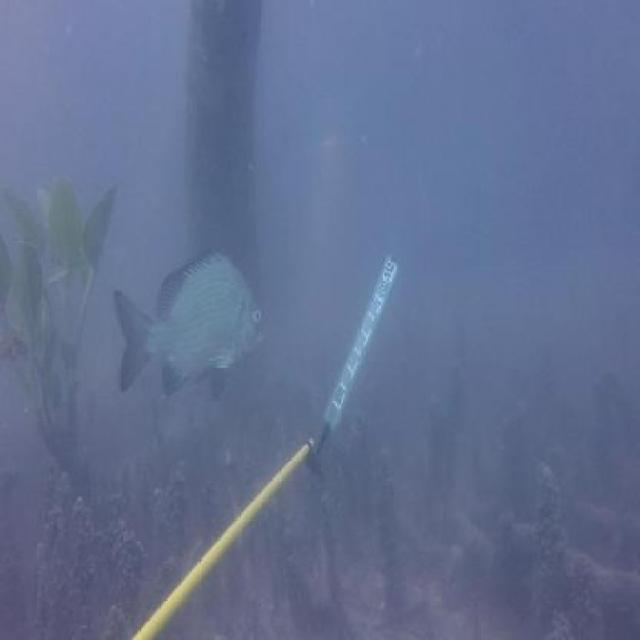acanthopagrus_palmaris: (113, 249, 270, 400)
